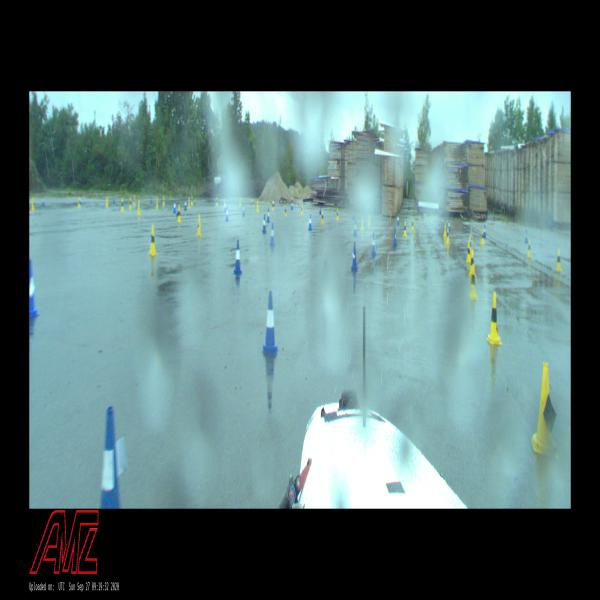blue_cone: (100, 407, 120, 507), (263, 291, 279, 353), (29, 261, 39, 317), (234, 240, 242, 273), (351, 244, 358, 270), (269, 224, 275, 246), (371, 232, 376, 253), (225, 206, 230, 222), (393, 228, 397, 247), (262, 214, 266, 231), (308, 214, 312, 230), (353, 220, 357, 234), (266, 208, 270, 222), (524, 229, 528, 243), (242, 202, 246, 216), (448, 219, 451, 234), (172, 200, 176, 211), (396, 213, 399, 224), (184, 199, 187, 210), (484, 224, 486, 237), (42, 195, 44, 205), (320, 205, 322, 214), (222, 197, 224, 204), (291, 200, 292, 209), (251, 197, 252, 205)
yellow_cone: (532, 362, 557, 456), (487, 292, 502, 344), (468, 267, 477, 301), (149, 225, 156, 256), (469, 250, 476, 275), (556, 250, 562, 272), (196, 215, 202, 236), (527, 239, 532, 258), (466, 245, 471, 262), (177, 205, 181, 222), (443, 222, 447, 237), (480, 230, 484, 245), (468, 235, 471, 253), (410, 218, 414, 231), (447, 228, 450, 244), (121, 198, 124, 212), (77, 197, 81, 207), (403, 222, 406, 235), (138, 202, 141, 215), (284, 205, 287, 217), (321, 212, 324, 224), (336, 209, 339, 220), (31, 198, 34, 209), (361, 218, 364, 229), (105, 196, 108, 207), (215, 196, 218, 206), (133, 196, 136, 206), (156, 198, 159, 208), (162, 196, 165, 204), (368, 213, 370, 225), (301, 204, 303, 215), (257, 201, 259, 212), (272, 200, 274, 210), (239, 196, 241, 206), (192, 195, 194, 204), (129, 198, 130, 209), (189, 198, 190, 208)
